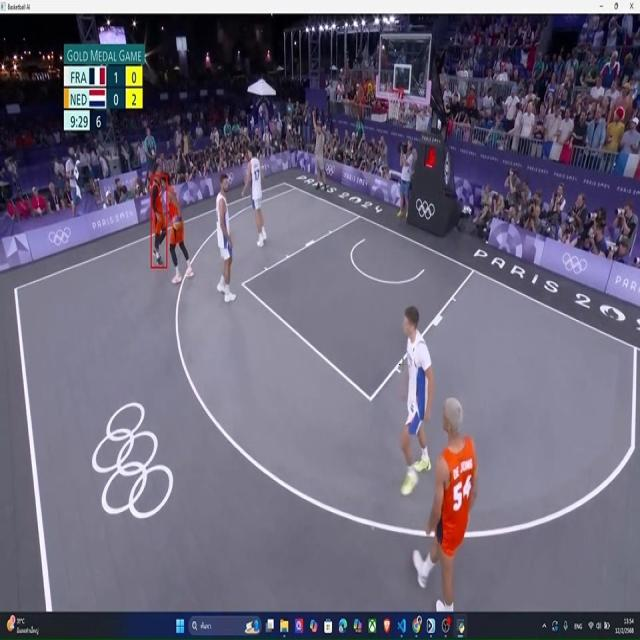hoop: (387, 87, 403, 123)
